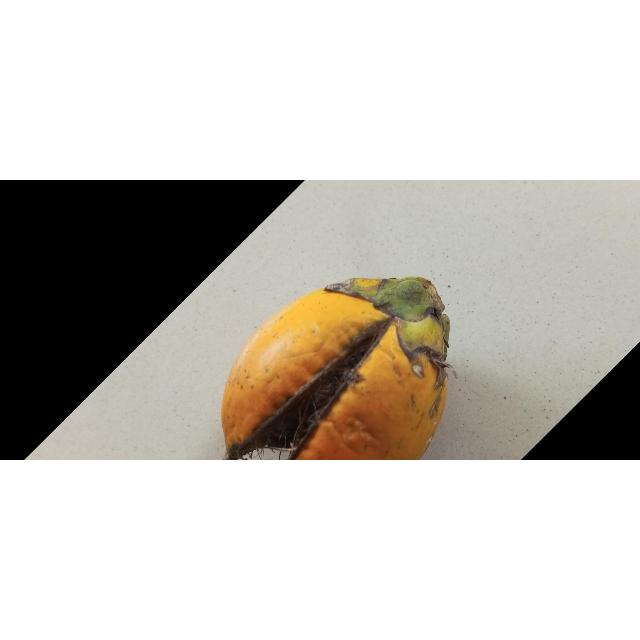damaged: (220, 278, 450, 461)
